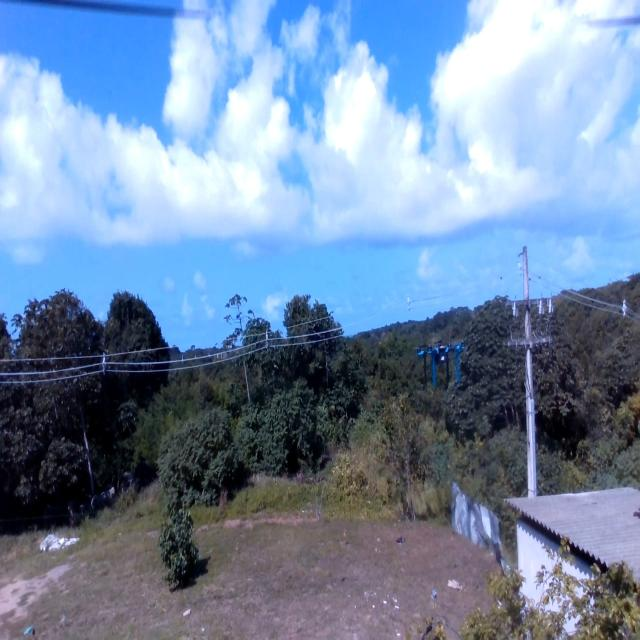-uav-: (411, 322, 474, 398)
